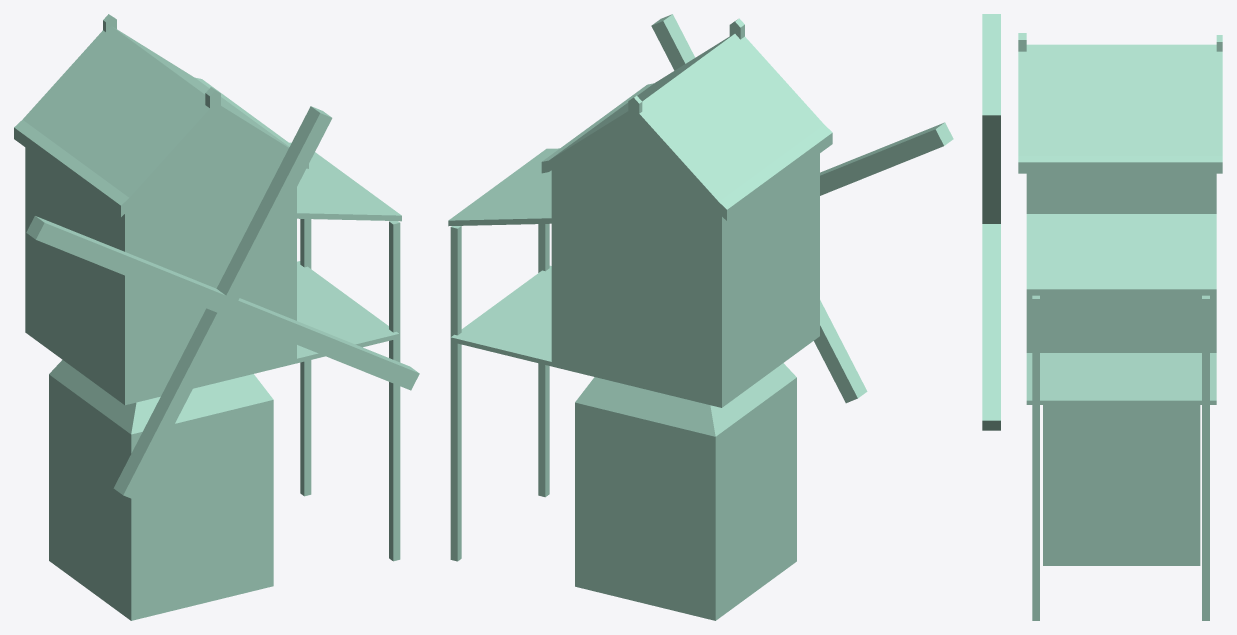
Rendered from NightbloomWindmill.glb.
3 views of the same model, side by side, from view 1: azimuth 30°, elevation 25°; view 2: azimuth 150°, elevation 25°; view 3: azimuth 270°, elevation 25° (orthographic). The views are drawn at different scales.
Parts seen in each view (by area): view 1: Cube; view 2: Cube; view 3: Cube.
Part boxes in pixels (box(x1,y1,x2,y2)): Cube: box(14, 14, 419, 620); Cube: box(448, 14, 953, 620); Cube: box(982, 14, 1222, 620).
Bounding box in the file's own units: 5.48 × 7.01 × 3.05.
